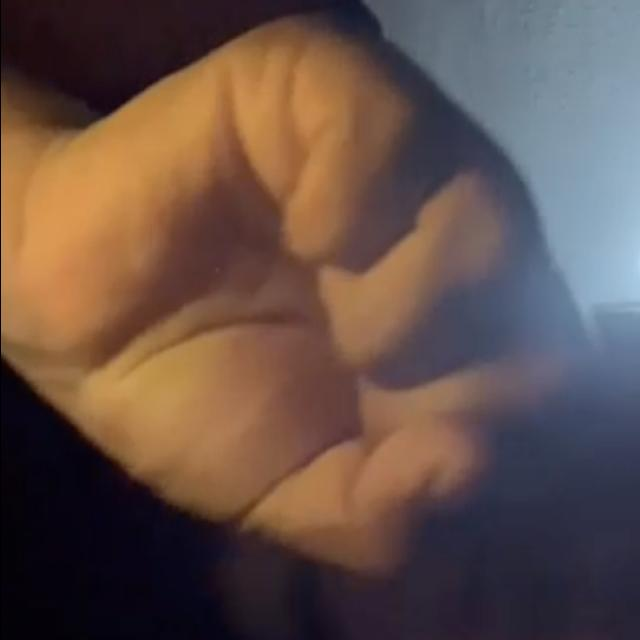S: (18, 7, 600, 585)
